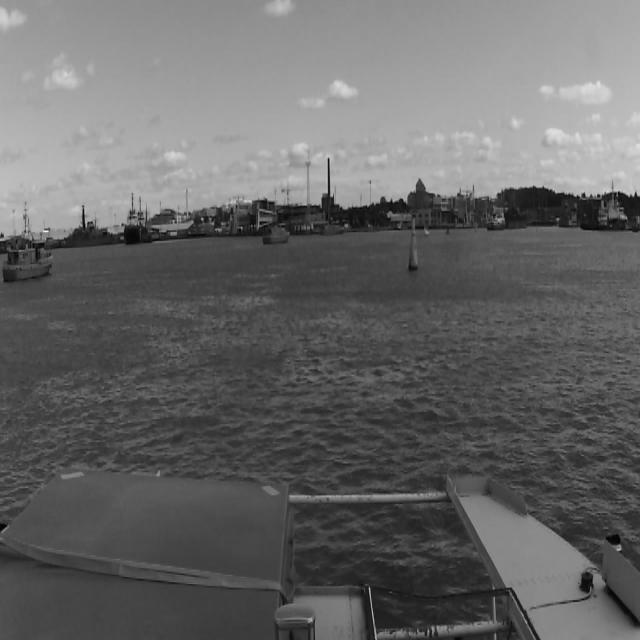buoy: (406, 211, 421, 272), (442, 223, 450, 236), (533, 220, 537, 232), (475, 222, 477, 233)
ship: (2, 238, 56, 280), (56, 211, 114, 246), (262, 223, 290, 245), (124, 208, 141, 243), (486, 212, 506, 230), (424, 226, 430, 234)
